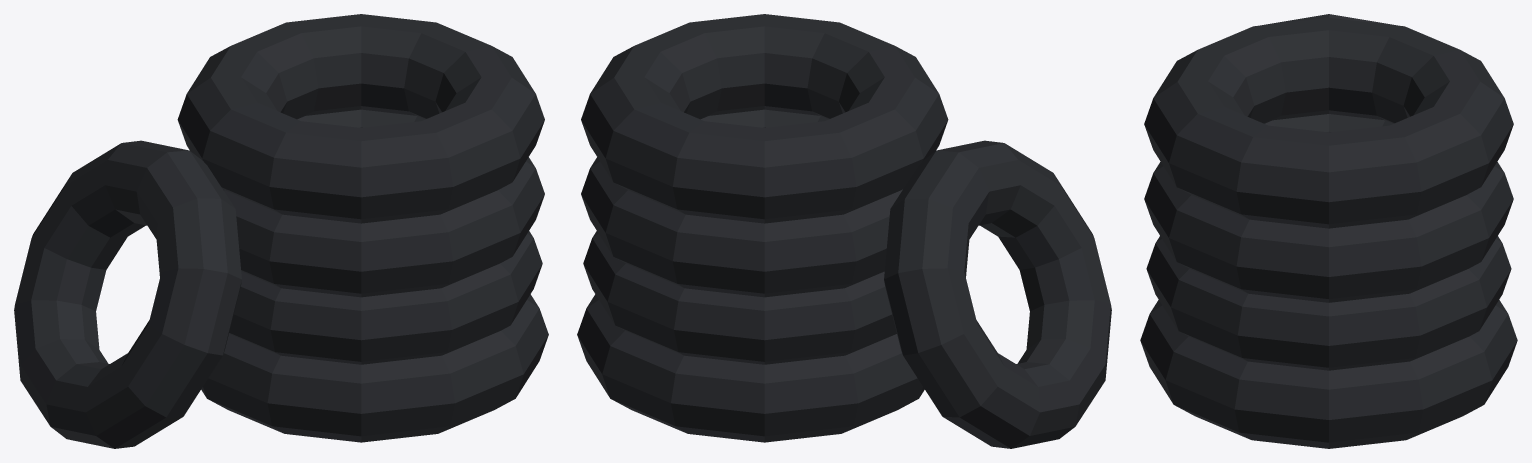
The model's file is WheelsStack_1.fbx.
The picture shows the model from 3 angles, left to right: view 1: azimuth 30°, elevation 25°; view 2: azimuth 150°, elevation 25°; view 3: azimuth 270°, elevation 25°; orthographic projection.
Visible parts, largest first — view 1: WheelsStack_1; view 2: WheelsStack_1; view 3: WheelsStack_1.
Part boxes in pixels (box(x1,y1,x2,y2)): WheelsStack_1: box(14, 14, 548, 448); WheelsStack_1: box(577, 14, 1111, 448); WheelsStack_1: box(1140, 14, 1517, 448).
Bounding box in the file's own units: 295 × 178 × 201.
